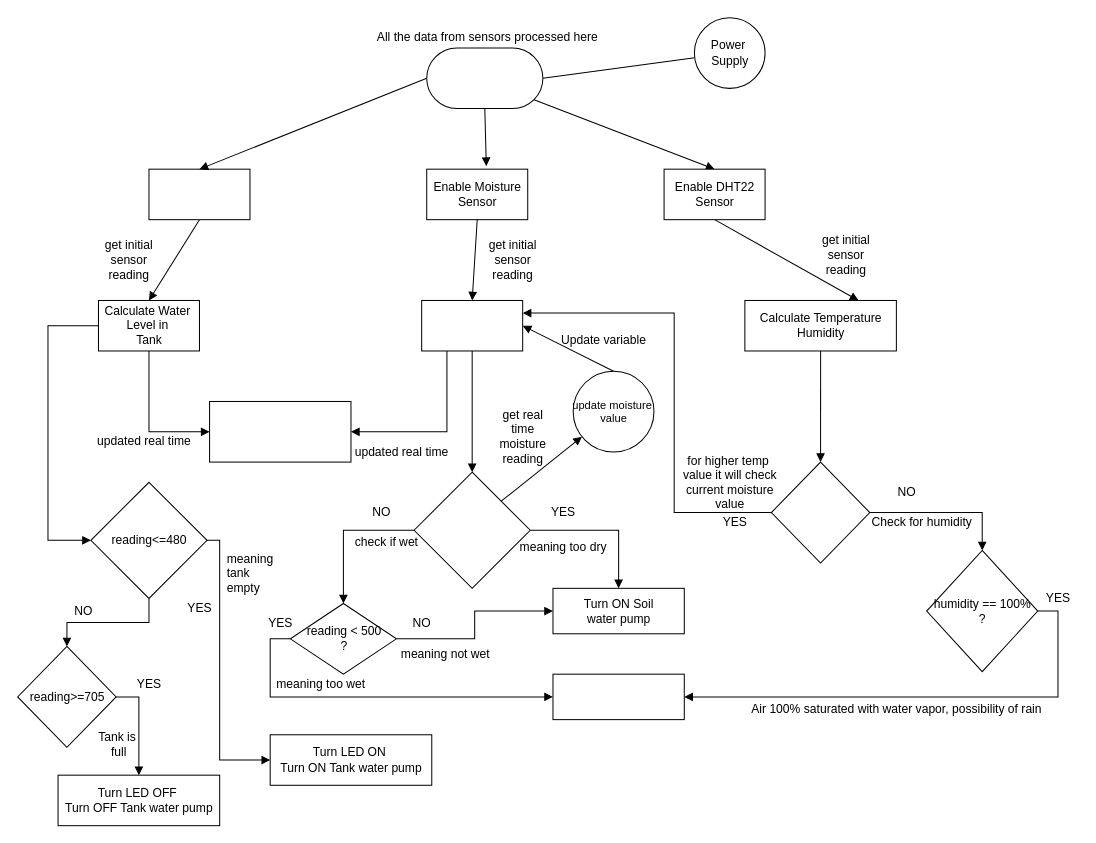
Some shapes in this 1096 by 843 pixel diagram are drawn without their labels. Each missing label, with the centre of its shape:
"Calculate Moisture level" belongs at [472,325].
"Display moisture status and tank Water level on LCD" belongs at [280,431].
"Enable Water Sensor" belongs at [199,194].
"Microcontroller Power On" belongs at [484,78].
"reading > 750 ?" belongs at [471,529].
"temp > 40" belongs at [820,512].
"Turn OFF Soil water pump" belongs at [618,696].
